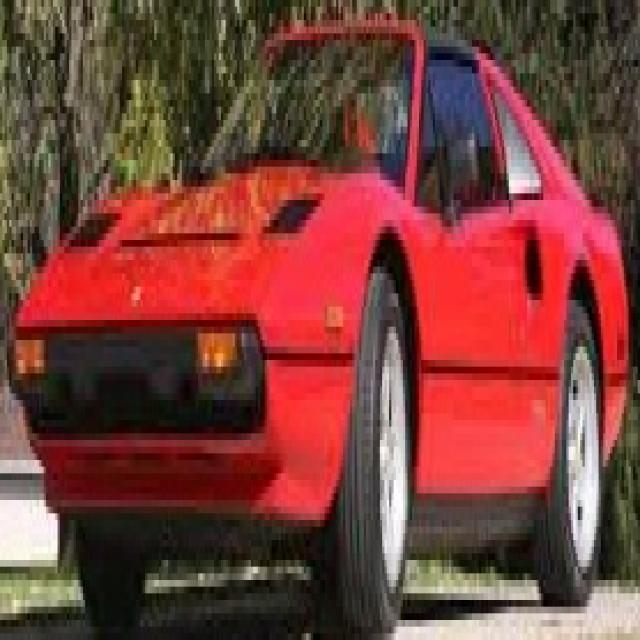red: (18, 13, 633, 640)
